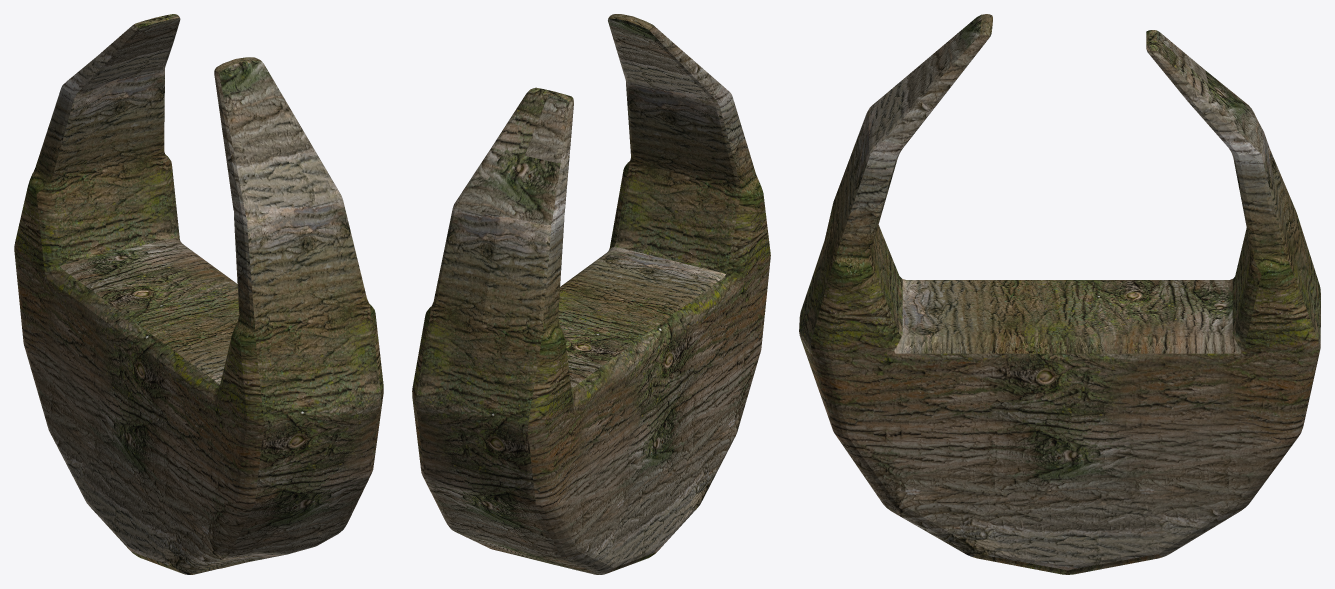
The model's file is Log3.fbx.
The picture shows the model from 3 angles, left to right: view 1: azimuth 30°, elevation 25°; view 2: azimuth 150°, elevation 25°; view 3: azimuth 270°, elevation 25°; orthographic projection. The views are drawn at different scales.
Parts seen in each view (by area): view 1: Log3; view 2: Log3; view 3: Log3.
Part boxes in pixels (<box>): Log3: <box>14,14,383,574</box>; Log3: <box>412,14,770,574</box>; Log3: <box>799,14,1320,574</box>.
Size of the model in its own units: 96 by 349 by 308.
